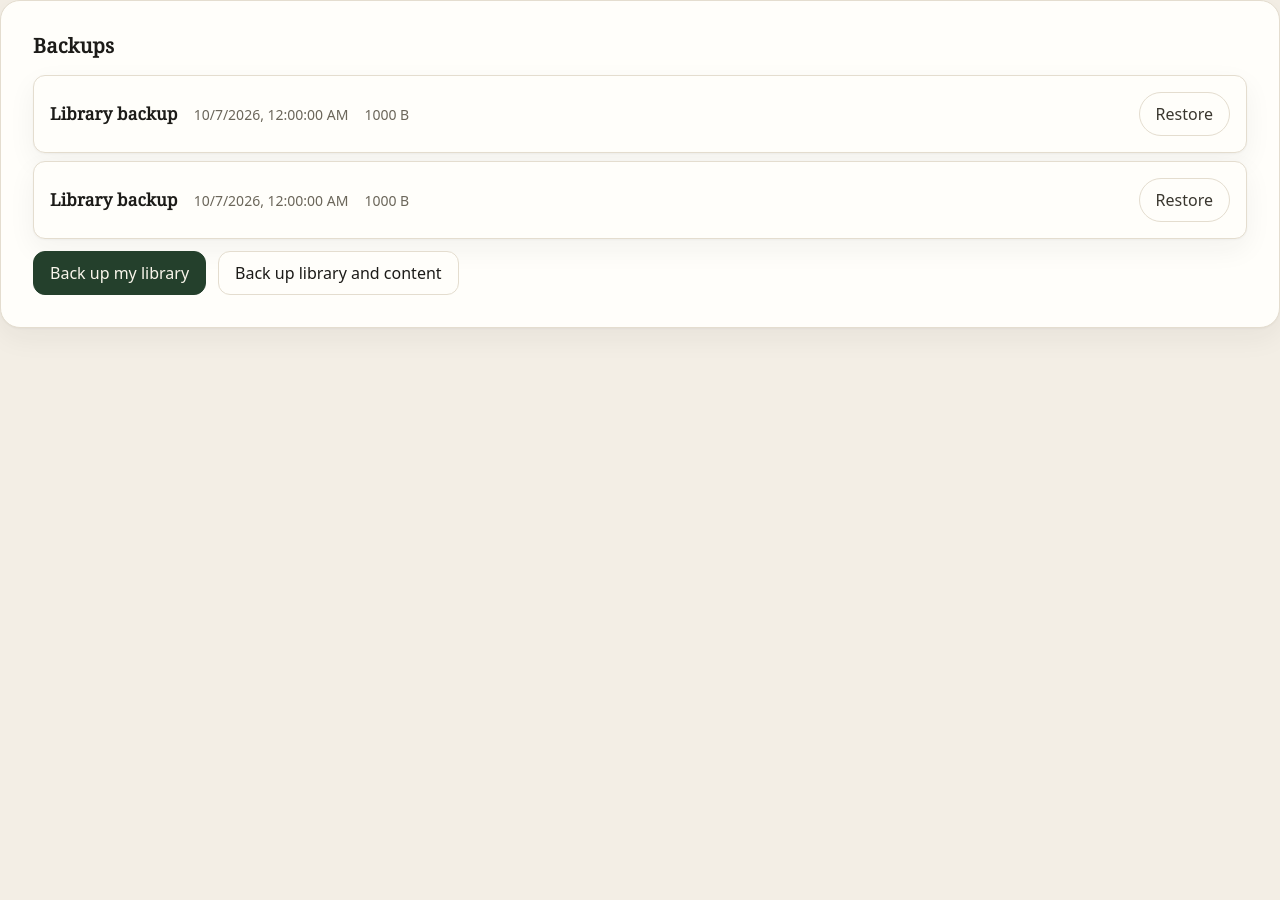
Scenario: keeps B's preflight after a closed A request resolves late
Click the 1st button "Restore".
click(1184, 114)  # box [1139,92,1230,136]
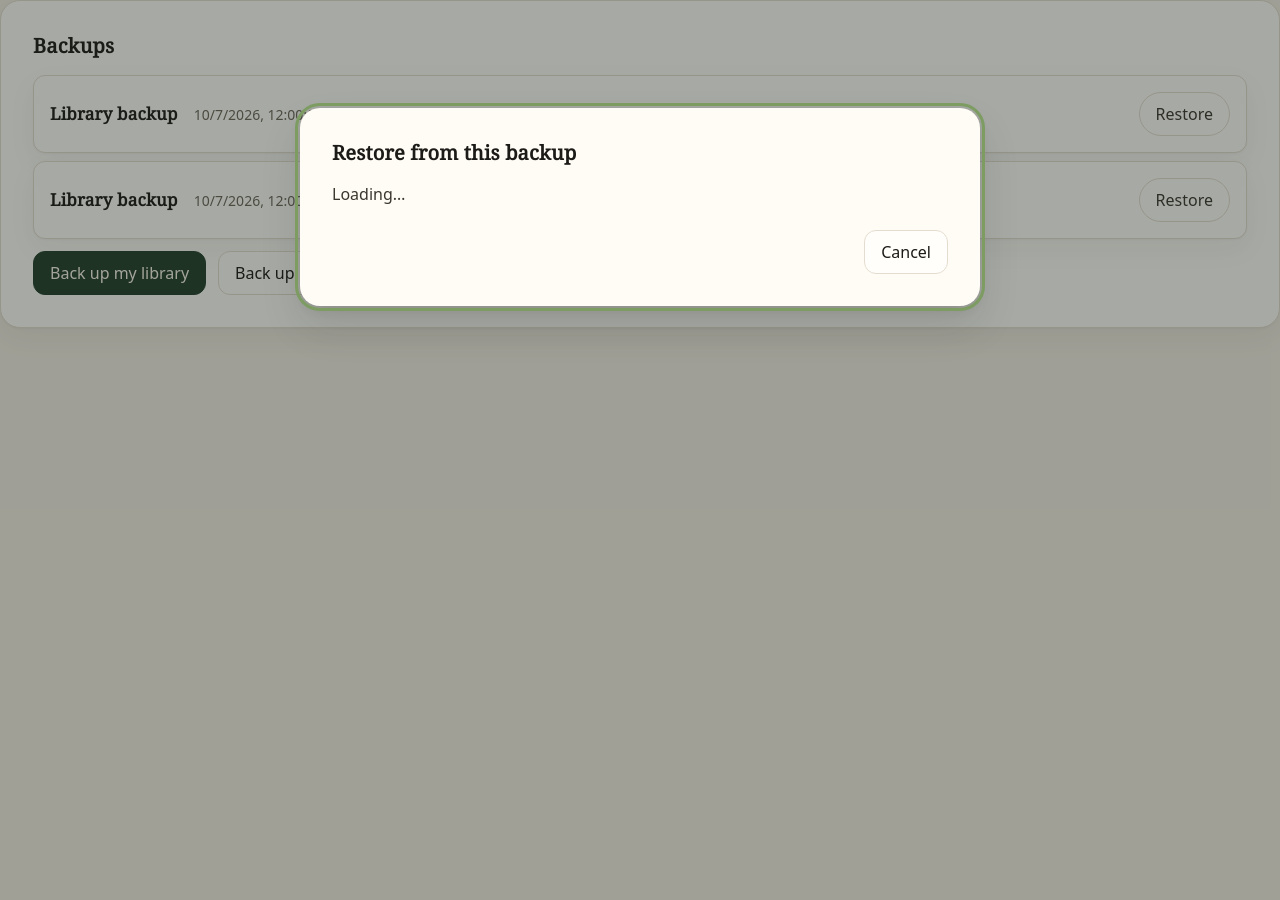
Click the button "Cancel".
click(906, 252)  # box [864,230,948,274]
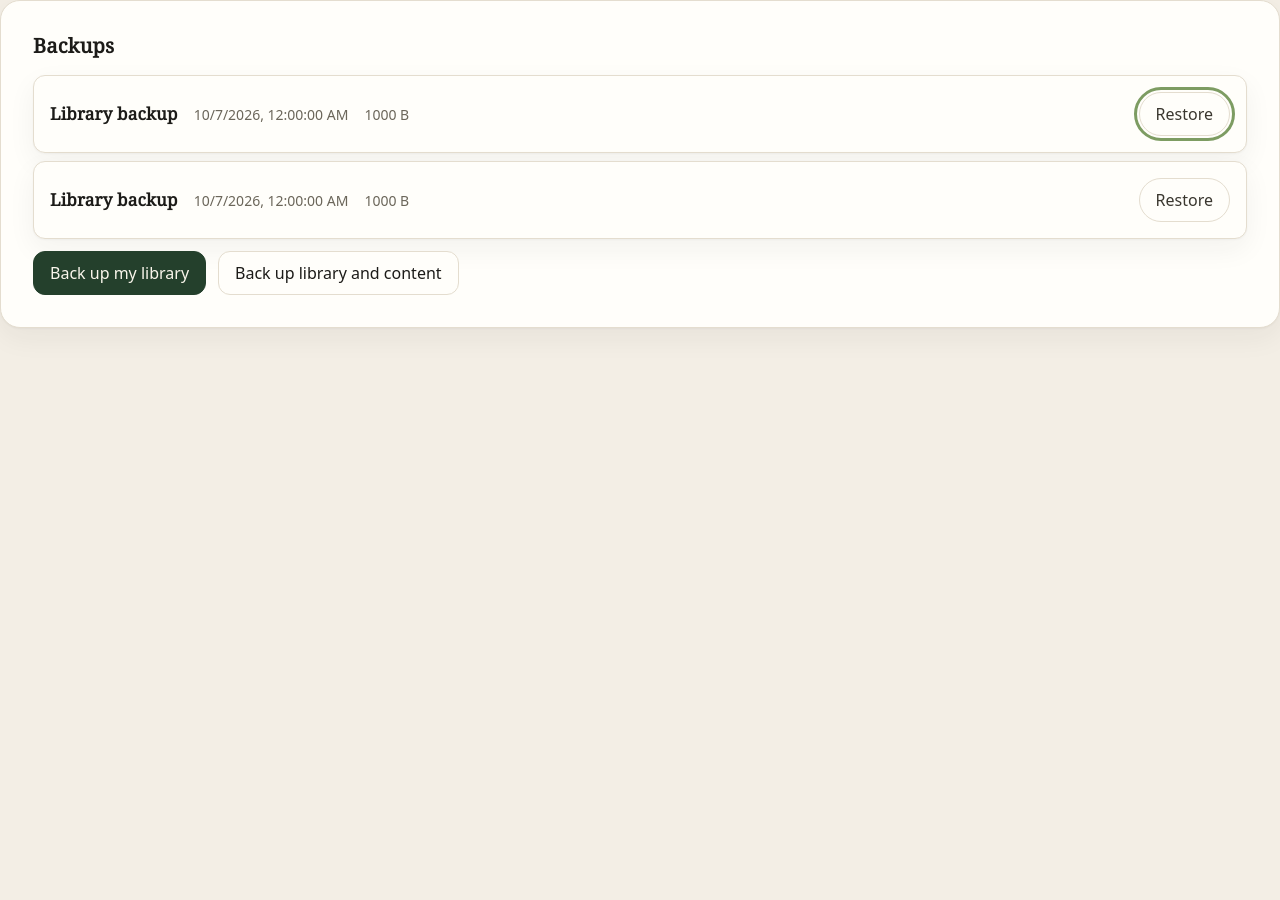
Click the 2nd button "Restore".
click(1184, 200)  # box [1139,178,1230,222]
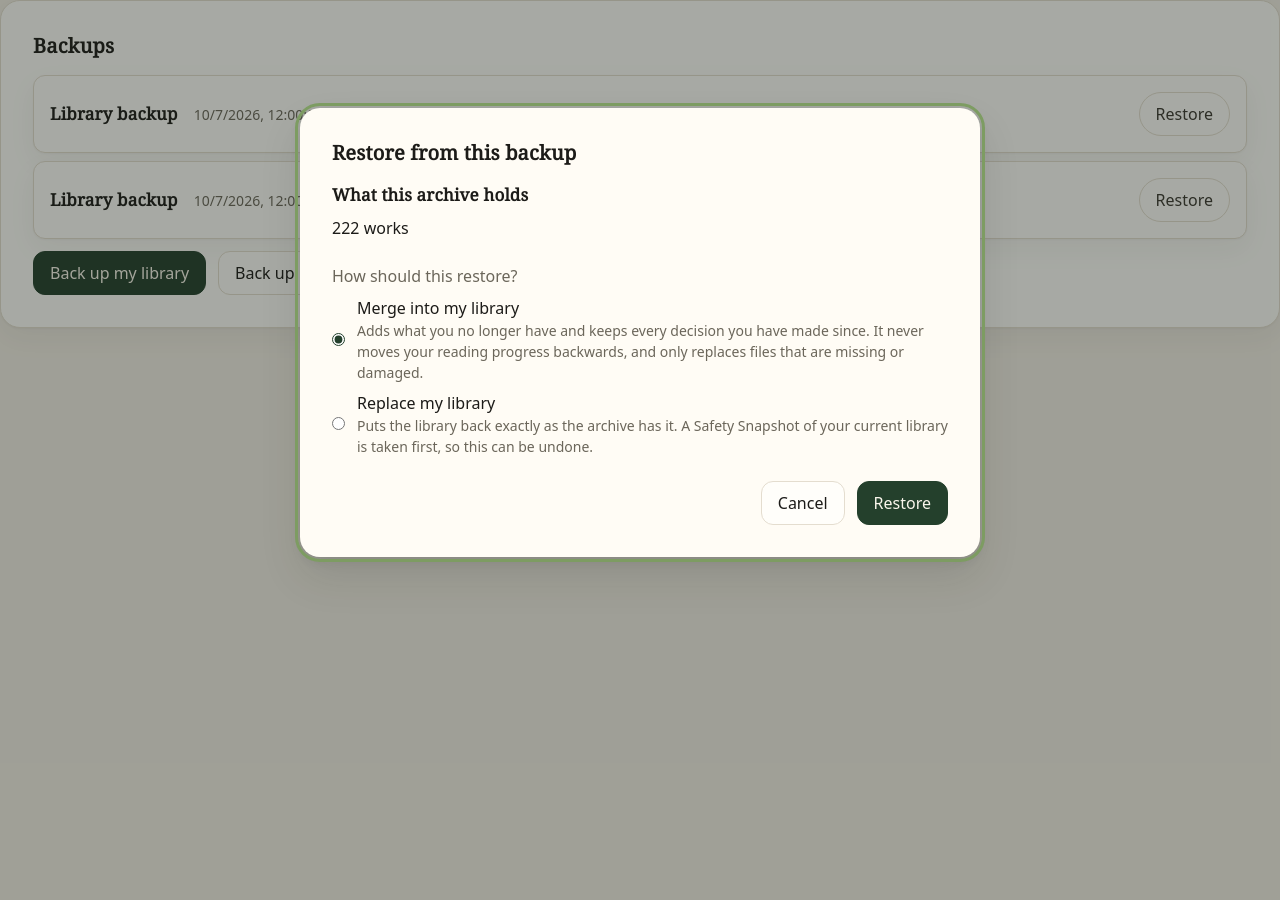
Now the list item "222 works" is shown, box [332,216,409,238]
